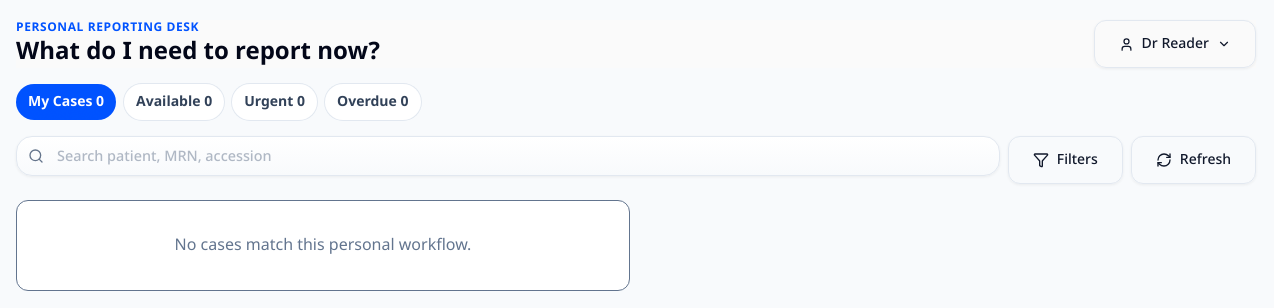
Scenario: Personal Reporting Desk authentication and current-device notifications › shows the not-configured state and does not expose actions
Check: the text "Personal Reporting Desk" is shown, box [16, 15, 199, 40]
Click the button "Dr Reader". click: (1175, 44)
box: [1094, 20, 1256, 68]
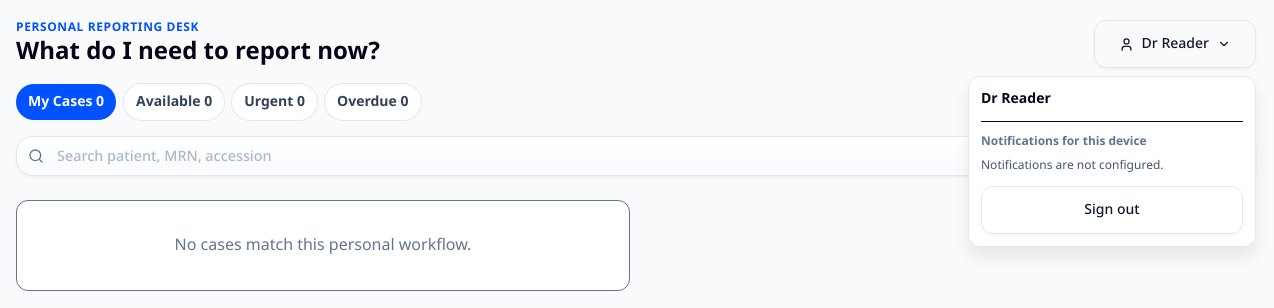
Check: the text "Notifications are not configured." is shown, box [981, 153, 1164, 178]
